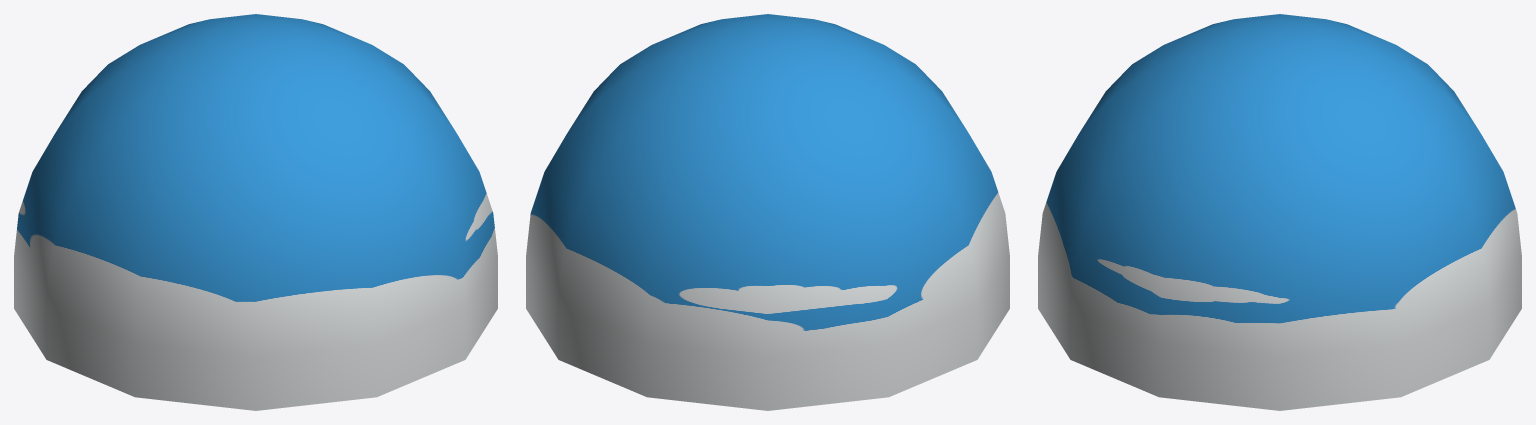
The model's file is sky.glb.
The picture shows the model from 3 angles, left to right: view 1: azimuth 30°, elevation 25°; view 2: azimuth 150°, elevation 25°; view 3: azimuth 270°, elevation 25°; orthographic projection.
Visible parts, largest first — view 1: sky; view 2: sky; view 3: sky.
Boxes of the visible parts, x1,y1,x2,y2 form: sky: (14,14,497,410); sky: (526,14,1009,410); sky: (1038,14,1521,410).
Bounding box in the file's own units: 192 × 119 × 192.
1 material, 1 textured.
